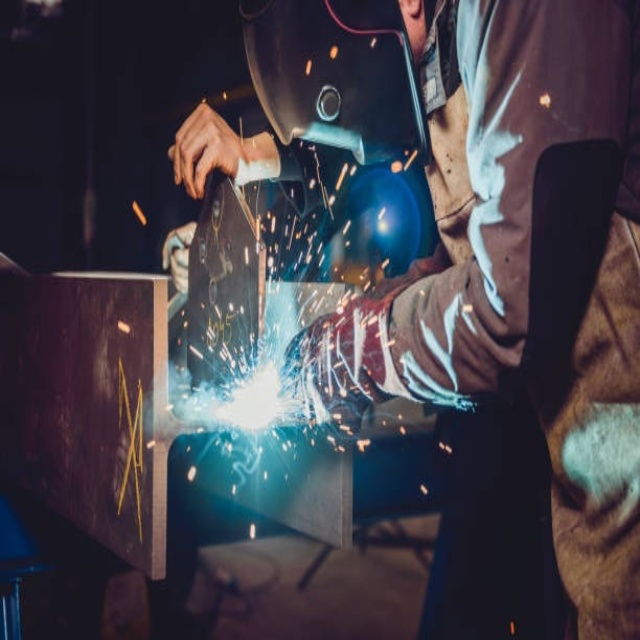Guantes: (284, 266, 429, 425), (162, 221, 196, 297)
Sin_guantes: (166, 99, 273, 200)
